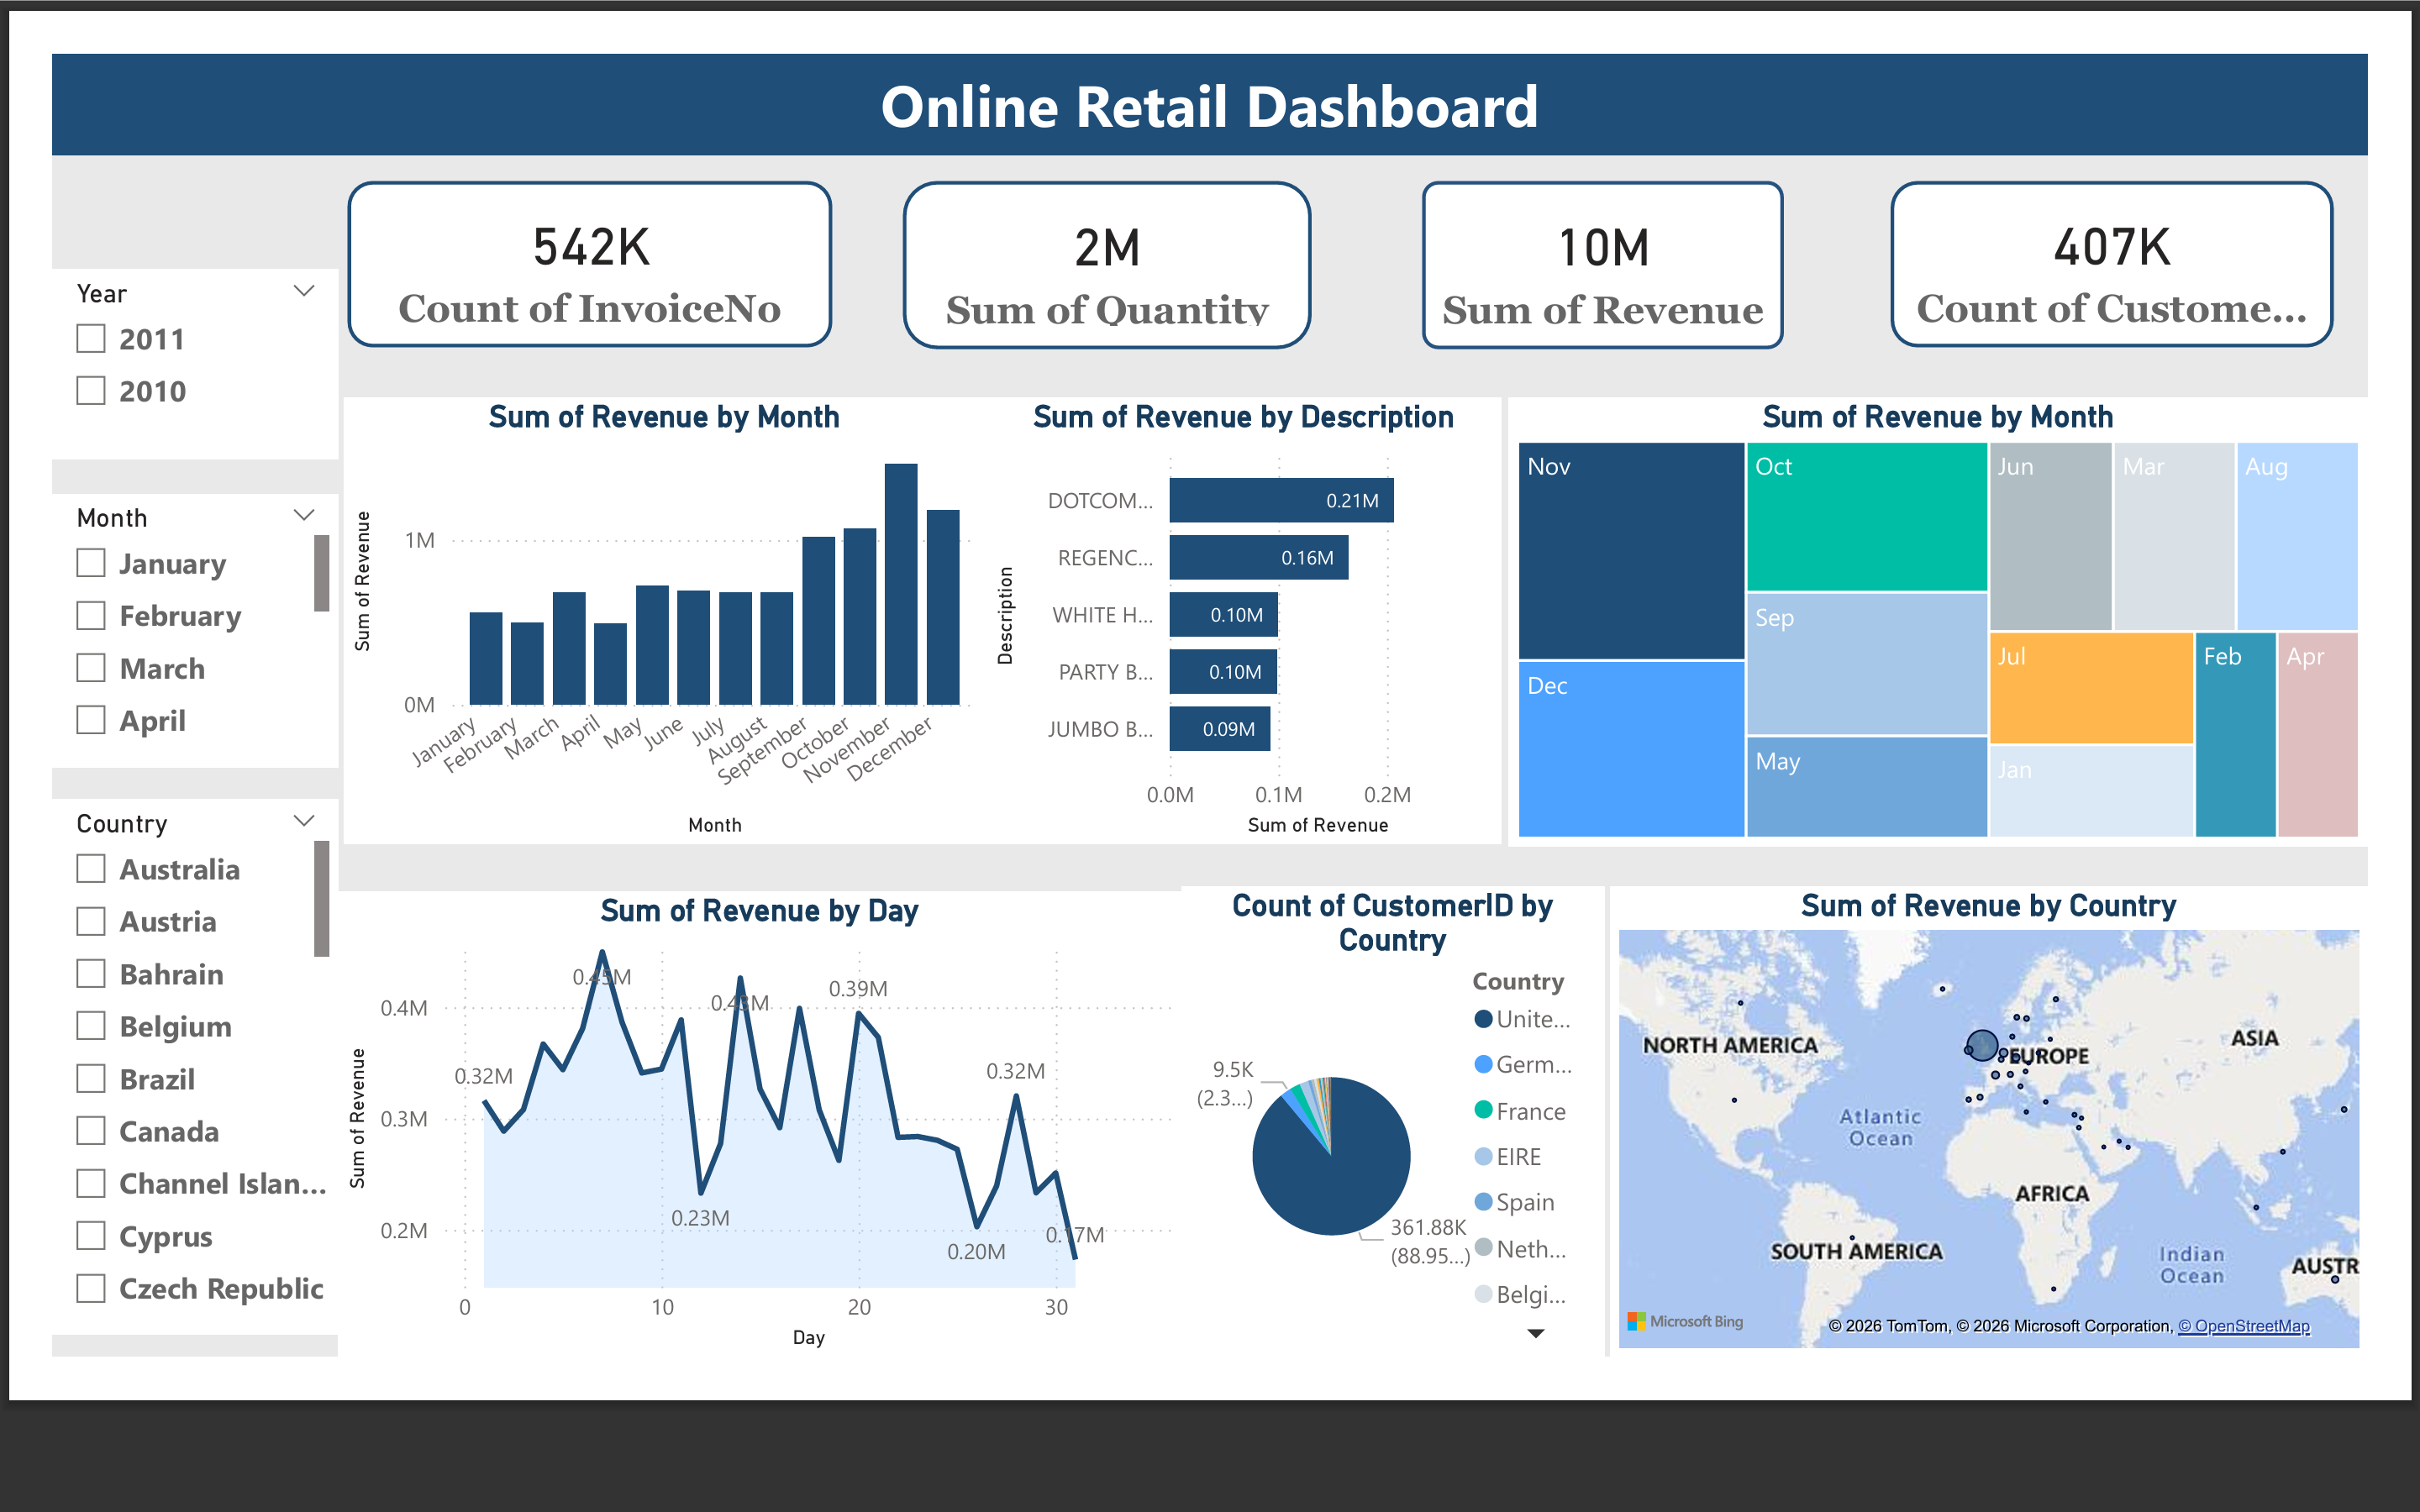

What the dashboard file says about the page in this screenshot:
{"tool":"powerbi","page":{"name":"Page 1","canvas":[1280,720],"ordinal":0},"visuals":[{"type":"textbox","box":[0,0,1280,56.4],"z":0},{"type":"card","fields":{"Values":["Sum(Online Retail.Revenue)"]},"box":[756.9,66.6,199.9,93],"z":1000},{"type":"areaChart","fields":{"Category":["Online Retail.InvoiceDate.Variation.Date Hierarchy.Day"],"Y":["Sum(Online Retail.Revenue)"]},"box":[158.4,460.2,465.2,256.5],"z":2000},{"type":"clusteredBarChart","fields":{"Category":["Online Retail.Description"],"Y":["Sum(Online Retail.Revenue)"]},"box":[501.7,189.9,284.2,247.7],"z":3000},{"type":"map","fields":{"Category":["Online Retail.Country"],"Size":["Sum(Online Retail.Revenue)"]},"box":[861.3,460.2,418.7,260.3],"z":4000},{"type":"pieChart","fields":{"Category":["Online Retail.Country"],"Y":["CountNonNull(Online Retail.CustomerID)"]},"box":[623.7,460.2,233.9,260.3],"z":5000},{"type":"slicer","fields":{"Values":["Online Retail.Country"]},"box":[0,412.4,158.4,295.5],"z":6000},{"type":"card","fields":{"Values":["CountNonNull(Online Retail.CustomerID)"]},"box":[1016,71.7,245.2,96.8],"z":7000},{"type":"card","fields":{"Values":["CountNonNull(Online Retail.InvoiceNo)"]},"box":[158.4,70.4,245.2,84.2],"z":8000},{"type":"card","fields":{"Values":["Sum(Online Retail.Quantity)"]},"box":[472.8,61.6,199.9,93],"z":9000},{"type":"columnChart","fields":{"Category":["Online Retail.InvoiceDate.Variation.Date Hierarchy.Month"],"Y":["Sum(Online Retail.Revenue)"]},"box":[158.4,189.9,355.8,247.7],"z":10000},{"type":"slicer","fields":{"Values":["Online Retail.InvoiceDate.Variation.Date Hierarchy.Month"]},"box":[0,242.7,158.4,150.9],"z":11000},{"type":"slicer","fields":{"Values":["Online Retail.InvoiceDate.Variation.Date Hierarchy.Year"]},"box":[0,119.4,158.4,104.4],"z":12000},{"type":"treemap","fields":{"Values":["Sum(Online Retail.Revenue)"],"Group":["Online Retail.Month"]},"box":[804.7,189.9,475.3,247.7],"z":13000}]}

Visuals, with their boxes on the page's 1280x720 design canvas (x1, y1, x2, y2). These are canvas units, not pixel positions in the 2420x1512 screenshot, which may show the page scaled, cropped or inside an application window:
textbox: <box>0,0,1280,56</box>
card - Sum(Online Retail.Revenue): <box>757,67,957,160</box>
areaChart - Online Retail.InvoiceDate.Variation.Date Hierarchy.Day x Sum(Online Retail.Revenue): <box>158,460,624,717</box>
clusteredBarChart - Online Retail.Description x Sum(Online Retail.Revenue): <box>502,190,786,438</box>
map - Online Retail.Country x Sum(Online Retail.Revenue): <box>861,460,1280,720</box>
pieChart - Online Retail.Country x CountNonNull(Online Retail.CustomerID): <box>624,460,858,720</box>
slicer - Online Retail.Country: <box>0,412,158,708</box>
card - CountNonNull(Online Retail.CustomerID): <box>1016,72,1261,168</box>
card - CountNonNull(Online Retail.InvoiceNo): <box>158,70,404,155</box>
card - Sum(Online Retail.Quantity): <box>473,62,673,155</box>
columnChart - Online Retail.InvoiceDate.Variation.Date Hierarchy.Month x Sum(Online Retail.Revenue): <box>158,190,514,438</box>
slicer - Online Retail.InvoiceDate.Variation.Date Hierarchy.Month: <box>0,243,158,394</box>
slicer - Online Retail.InvoiceDate.Variation.Date Hierarchy.Year: <box>0,119,158,224</box>
treemap - Sum(Online Retail.Revenue) x Online Retail.Month: <box>805,190,1280,438</box>
